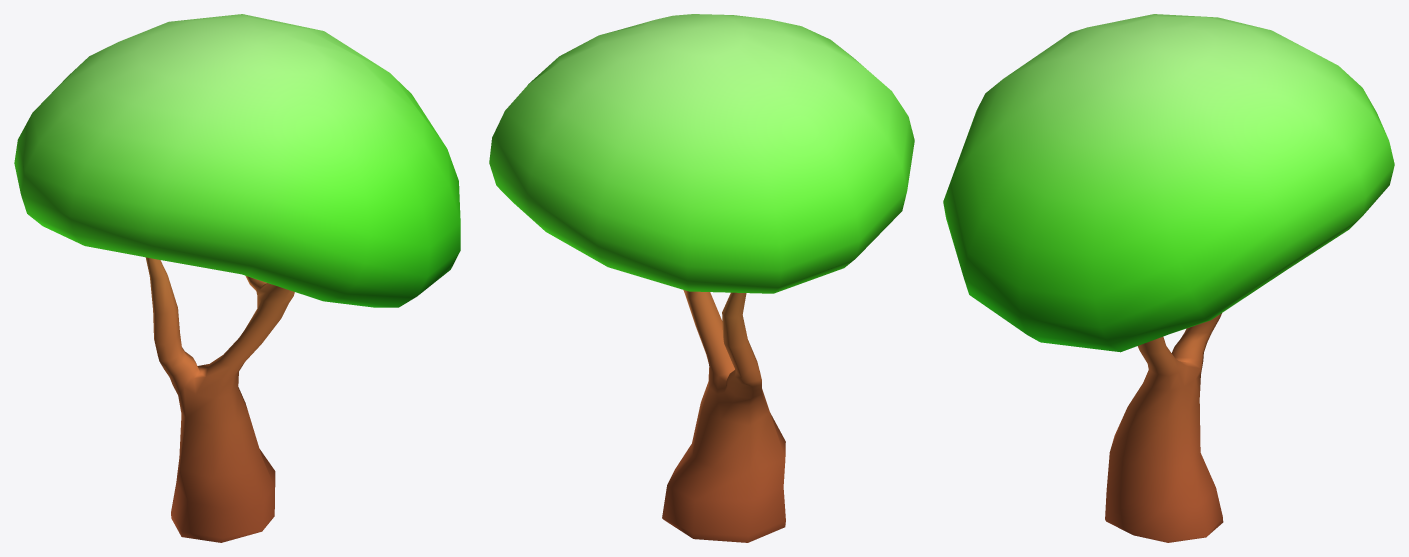
File: Tree_05.fbx
The picture shows the model from 3 angles, left to right: view 1: azimuth 30°, elevation 25°; view 2: azimuth 150°, elevation 25°; view 3: azimuth 270°, elevation 25°; orthographic projection. The views are drawn at different scales.
Visible parts, largest first — view 1: Tree_05; view 2: Tree_05; view 3: Tree_05.
Part boxes in pixels (<box>): Tree_05: <box>14,14,460,542</box>; Tree_05: <box>489,14,914,542</box>; Tree_05: <box>943,14,1394,542</box>.
Size of the model in its own units: 331 by 395 by 331.
